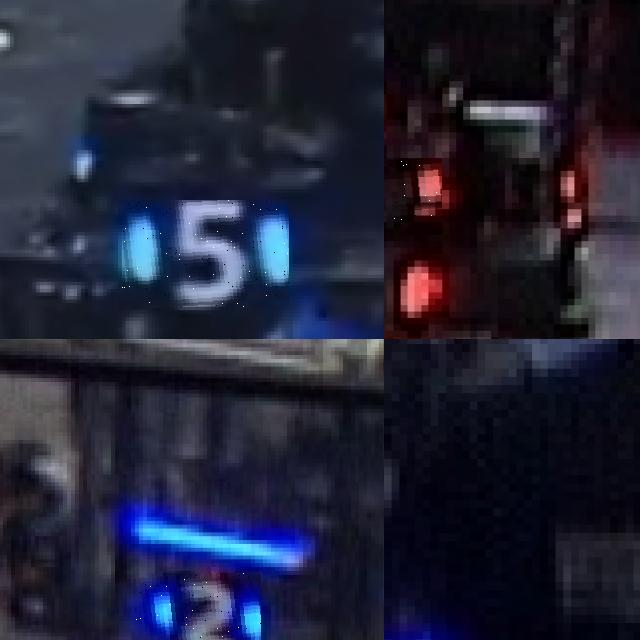B2: (133, 572, 261, 640)
B5: (118, 200, 289, 310)
R1: (384, 241, 442, 330), (384, 158, 442, 222)
